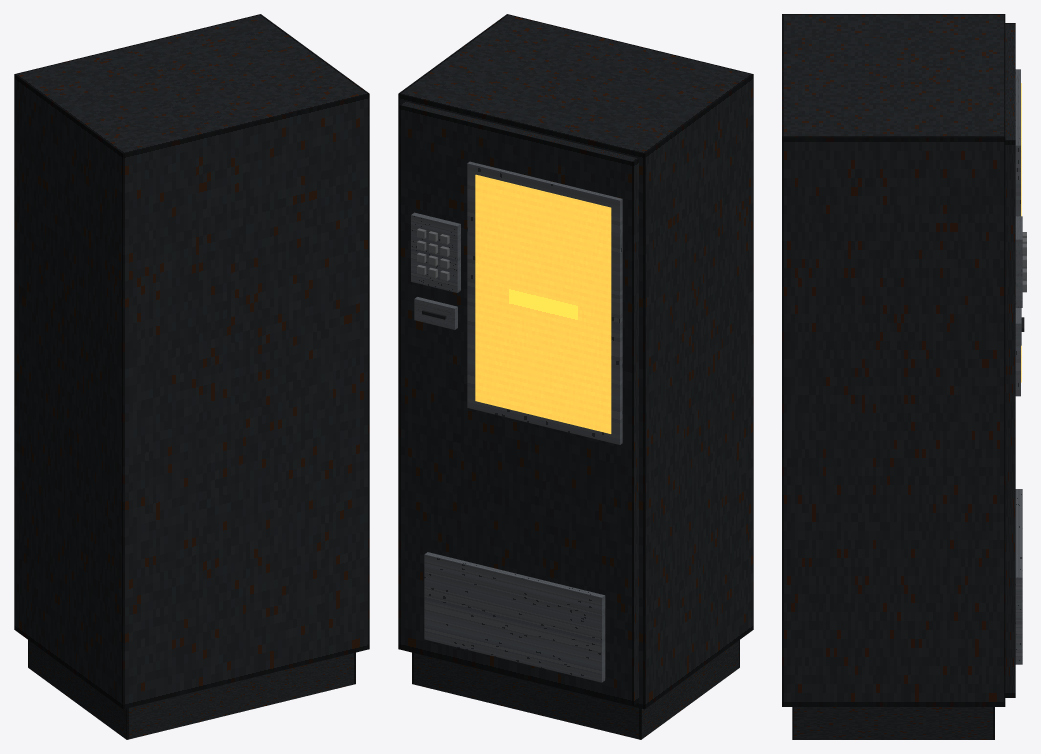
File: ration_automat_command_bridge.glb
3 views of the same model, side by side, from view 1: azimuth 30°, elevation 25°; view 2: azimuth 150°, elevation 25°; view 3: azimuth 270°, elevation 25° (orthographic). The views are drawn at different scales.
Parts seen in each view (by area): view 1: ration_automat_command_bridge; view 2: ration_automat_command_bridge; view 3: ration_automat_command_bridge.
Part boxes in pixels (bbox=[...]): ration_automat_command_bridge: bbox=[14, 14, 369, 739]; ration_automat_command_bridge: bbox=[398, 14, 753, 739]; ration_automat_command_bridge: bbox=[782, 14, 1026, 739].
Size of the model in its own units: 0.85 by 1.95 by 0.7125.
7 materials, 7 textured.
